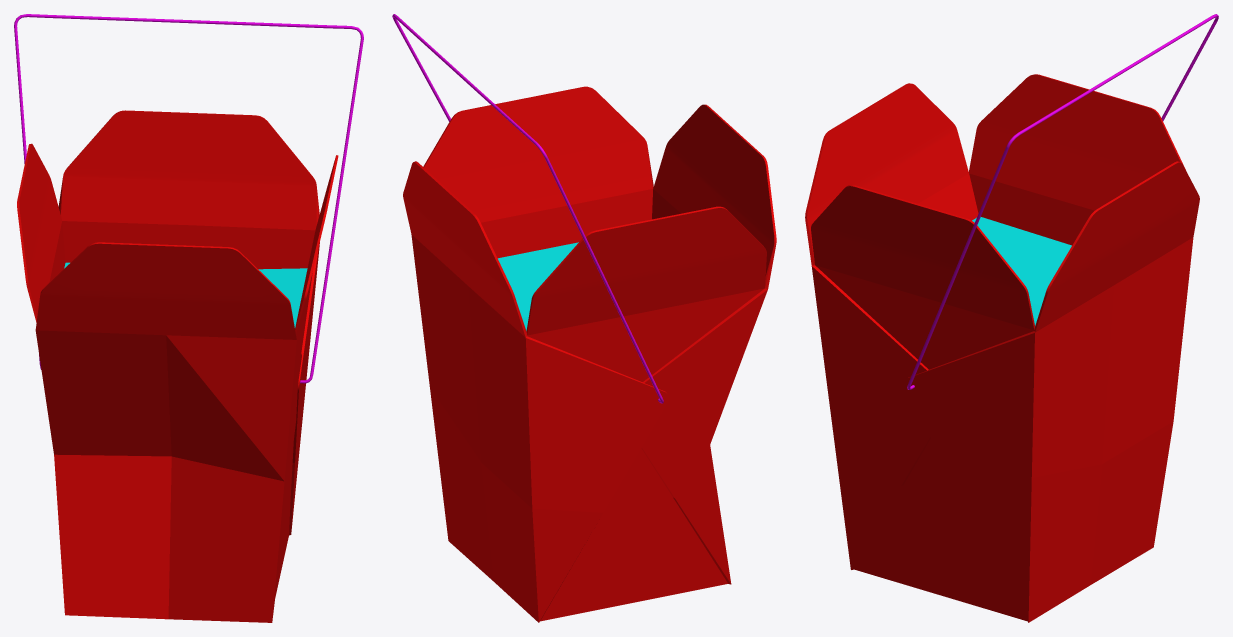
File: takeout.fbx
3 views of the same model, side by side, from view 1: azimuth 30°, elevation 25°; view 2: azimuth 150°, elevation 25°; view 3: azimuth 270°, elevation 25° (orthographic). The views are drawn at different scales.
Parts seen in each view (by area): view 1: Takeout; view 2: Takeout; view 3: Takeout.
Part boxes in pixels (x1=…): Takeout: x1=14, y1=14, x2=363, y2=622; Takeout: x1=392, y1=14, x2=776, y2=622; Takeout: x1=805, y1=14, x2=1218, y2=622.
Bounding box in the file's own units: 0.4623 × 0.6265 × 0.4529.
